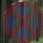No Stopping: (2, 1, 42, 41)
